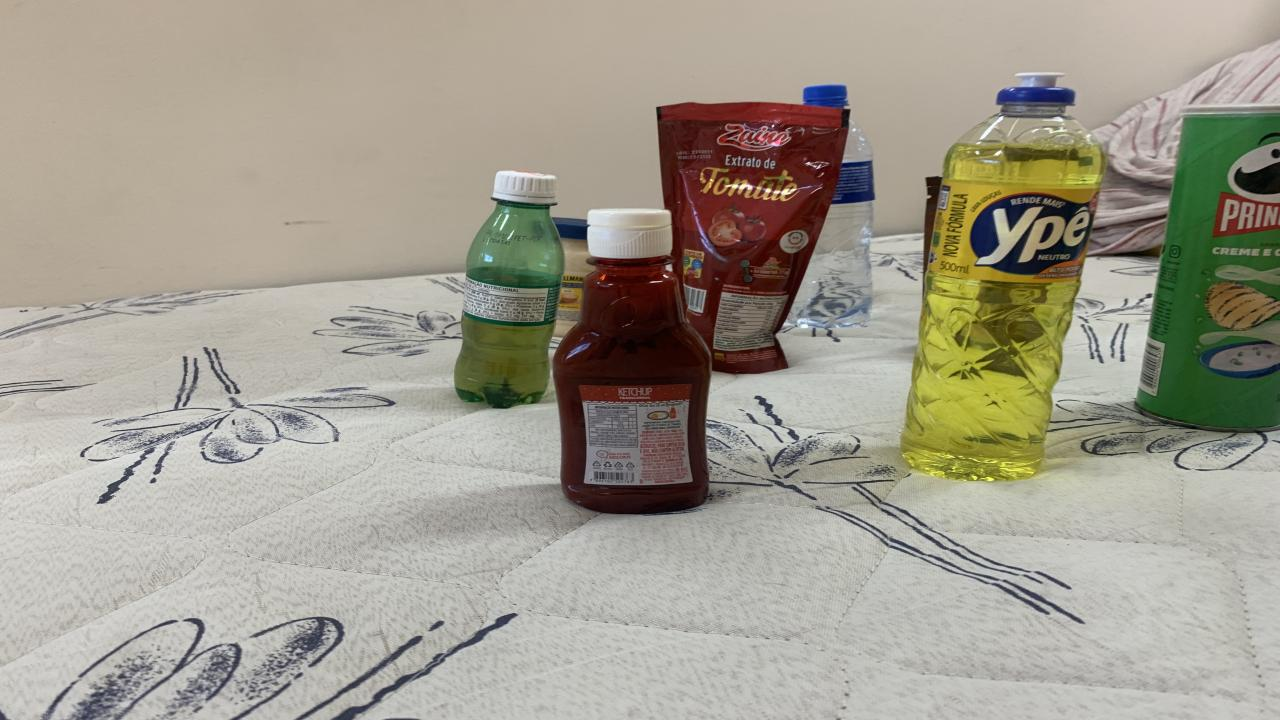Detergent-Cleanup_Items: (900, 77, 1105, 480), (942, 73, 1105, 189)
Guarana-Drinks: (455, 171, 565, 407)
Ketchup-Pantry_Items: (552, 210, 710, 514)
Mayonnaise-Pantry_Items: (552, 218, 595, 338)
Pringles-Snacks: (1135, 105, 1280, 428)
Tomato_Sauce-Pantry_Items: (658, 103, 850, 373)
Water_Bottle-Drinks: (788, 122, 875, 328), (802, 84, 848, 109)
